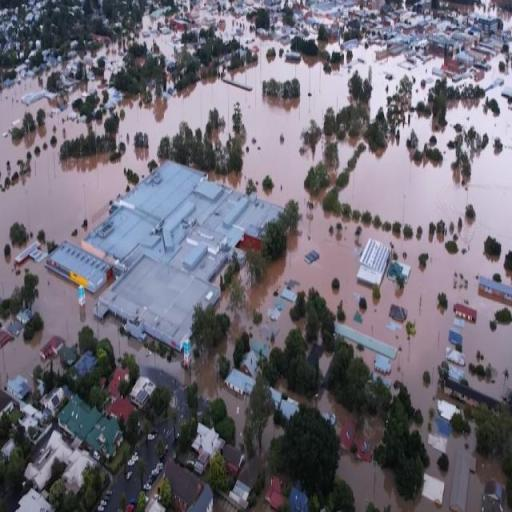flood: (0, 42, 443, 296), (0, 258, 289, 444), (341, 97, 512, 264), (374, 242, 512, 412), (339, 433, 506, 512), (271, 217, 371, 321), (57, 27, 183, 85), (280, 380, 348, 426), (347, 308, 390, 342), (481, 58, 512, 91), (262, 419, 284, 460), (394, 240, 429, 264), (342, 141, 357, 162), (319, 354, 333, 376)
house: (86, 160, 284, 352), (48, 237, 114, 295), (162, 453, 213, 512), (356, 234, 390, 291), (60, 396, 102, 440), (222, 456, 256, 510), (442, 381, 494, 408), (449, 449, 471, 512), (10, 484, 56, 512), (94, 418, 124, 459), (226, 364, 255, 398), (477, 277, 512, 303), (42, 383, 64, 414), (132, 376, 154, 406), (40, 336, 65, 362), (239, 348, 260, 377), (453, 303, 479, 321)
